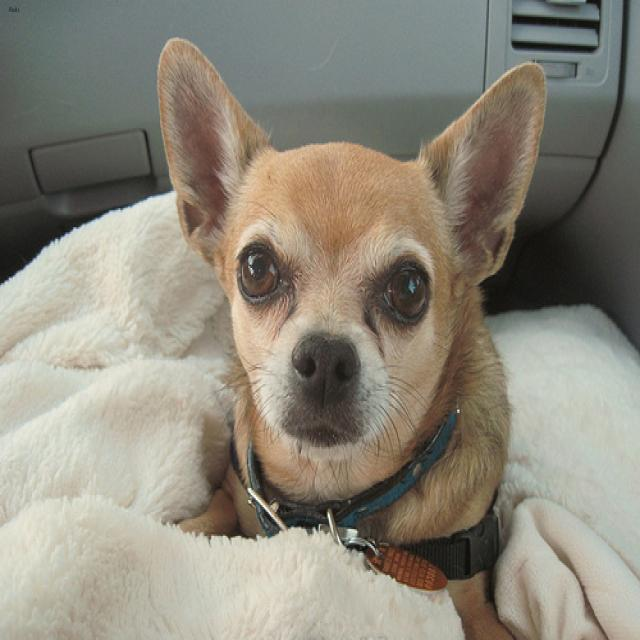dog-chihuahua: (150, 31, 552, 558)
